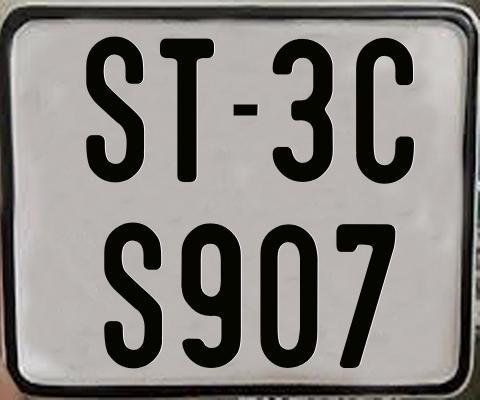0: (259, 221, 320, 368)
3: (269, 38, 330, 184)
7: (335, 224, 396, 368)
9: (181, 223, 242, 372)
C: (356, 38, 416, 190)
S: (83, 34, 147, 184), (101, 221, 161, 369)
T: (157, 35, 214, 179)
